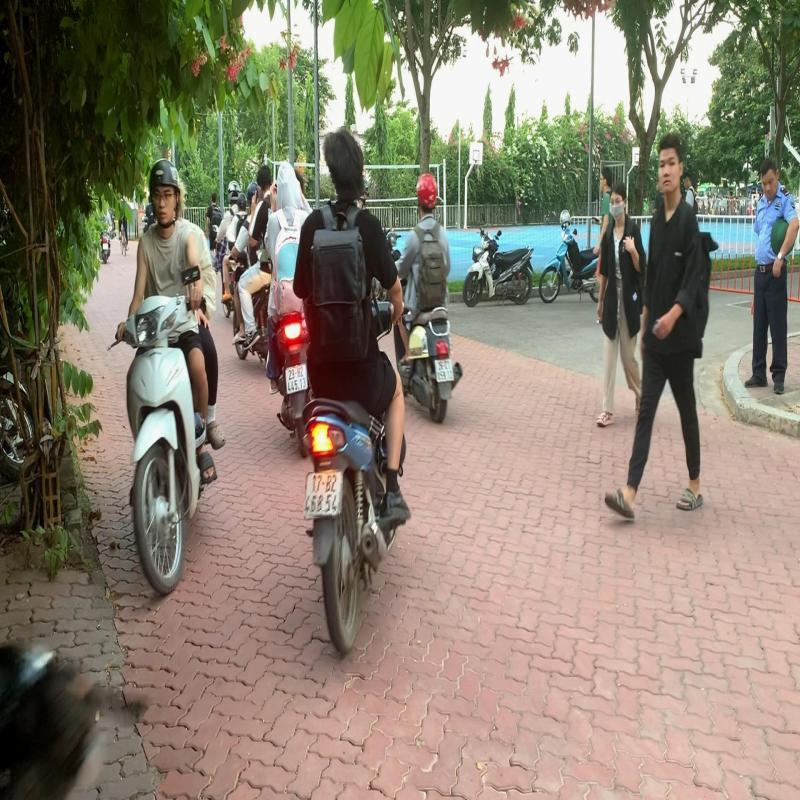licenseplate: (304, 474, 342, 518)
motorcyclist: (290, 123, 415, 660)
nohelmet: (321, 125, 366, 204)
